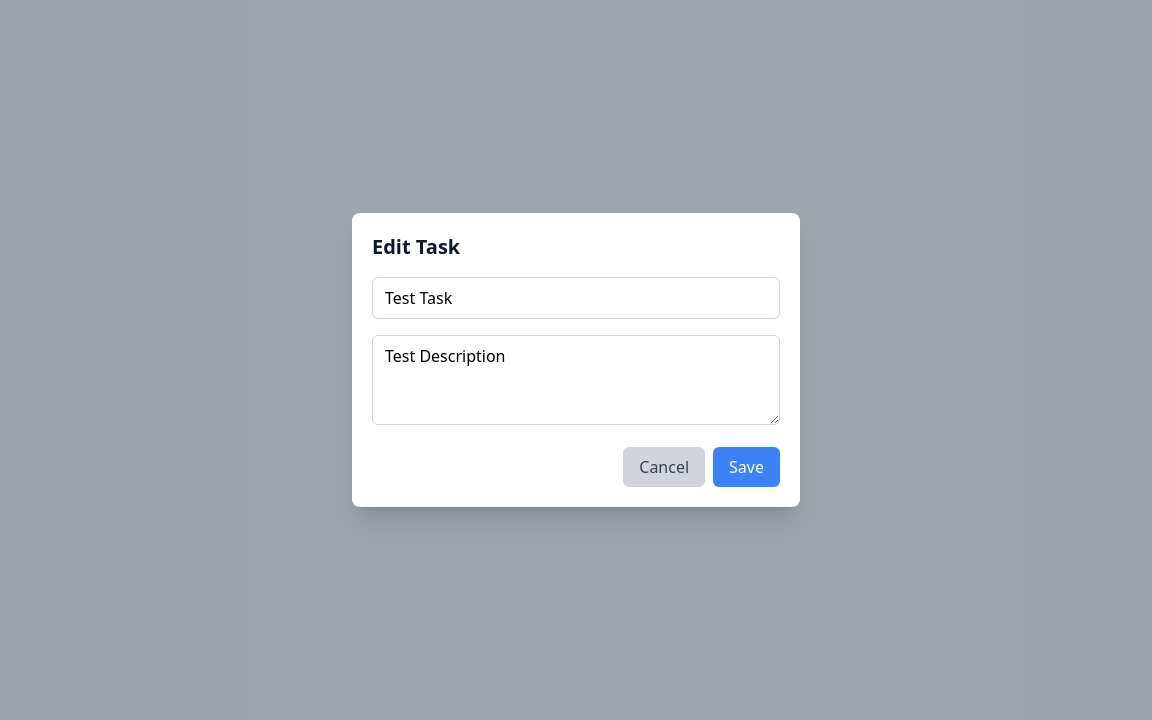
Test: EditTaskPopup › displays an error message when trying to save with empty title
Clear the field showing "Test Task" at (576, 298), box 372,277 -> 780,319
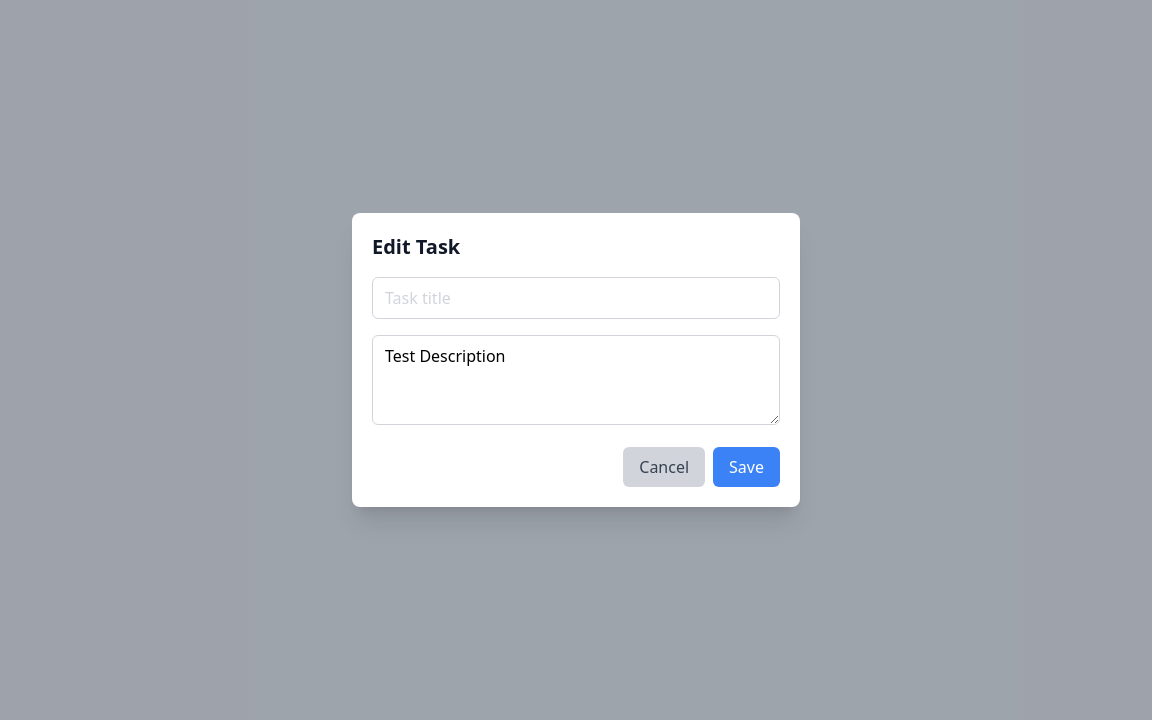
Click the button "Save" at (747, 467), box 713,447 -> 780,487
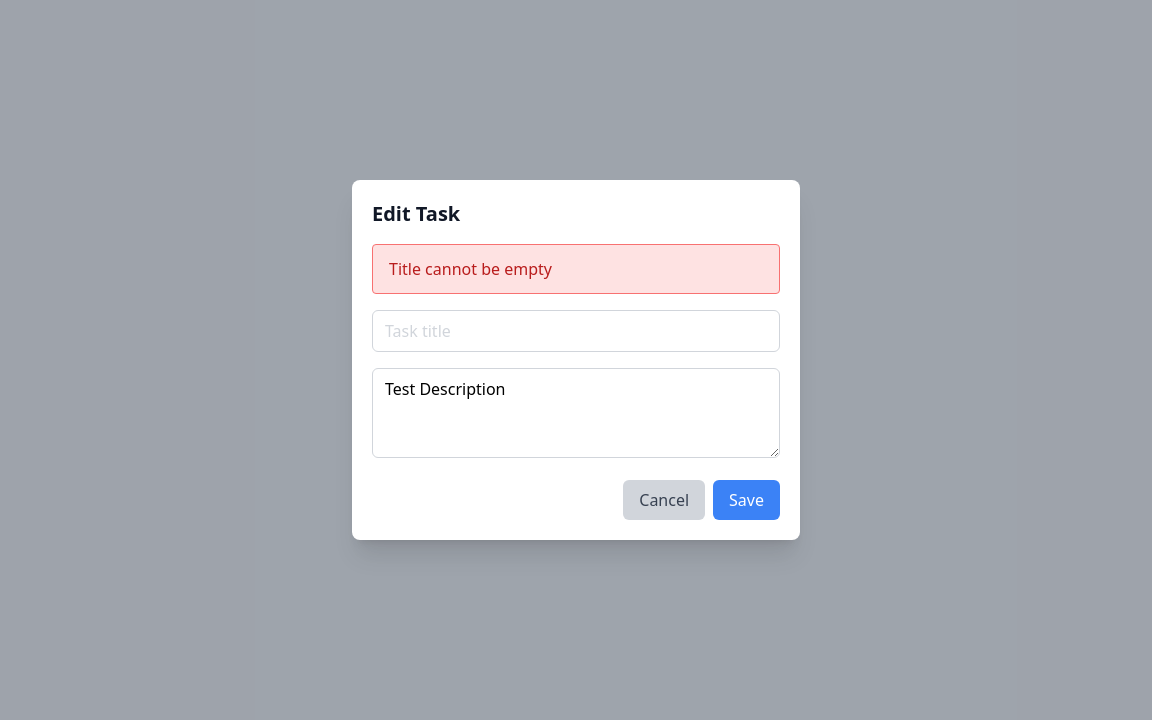
Result: the text "Title cannot be empty" is shown at 389,258 -> 552,280
